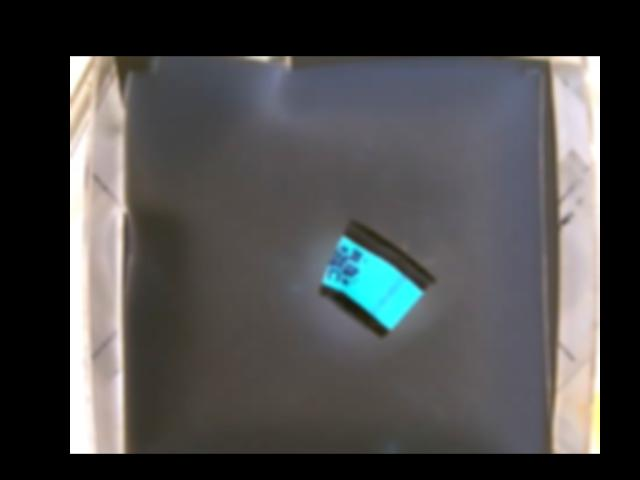Cup: (316, 216, 436, 337)
